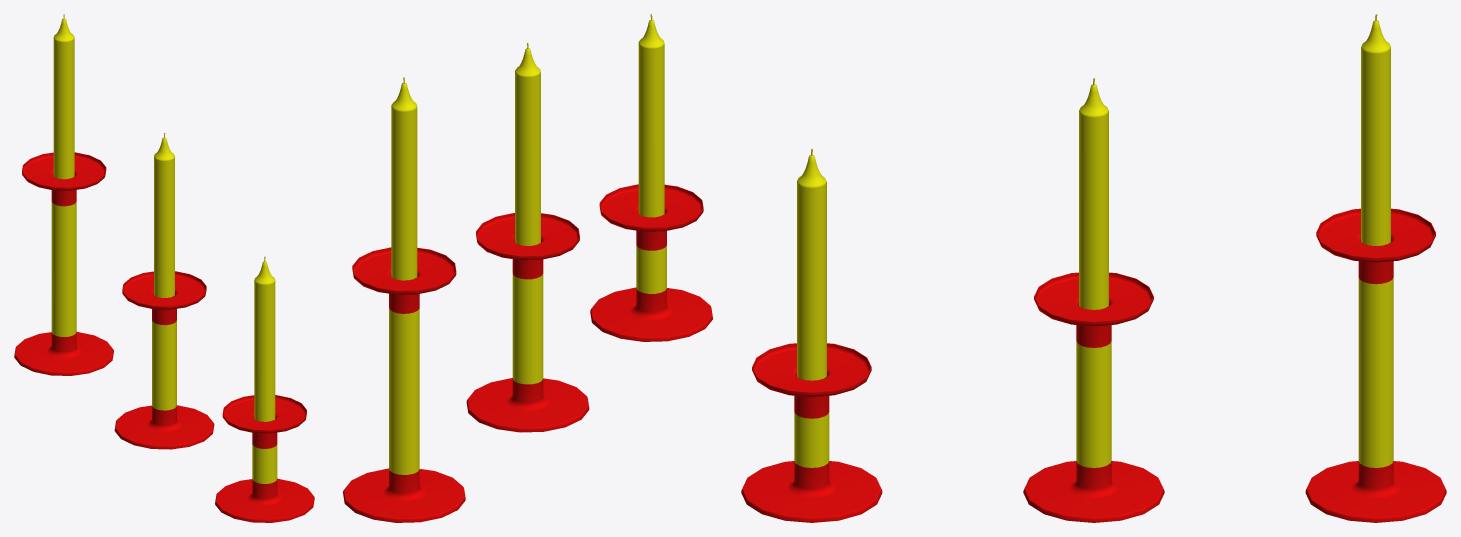
File: thorkea_candles_grp.fbx
The picture shows the model from 3 angles, left to right: view 1: azimuth 30°, elevation 25°; view 2: azimuth 150°, elevation 25°; view 3: azimuth 270°, elevation 25°; orthographic projection. The views are drawn at different scales.
Parts seen in each view (by area): view 1: thorkea_candle_glittrig_3, thorkea_candle_glittrig_2, thorkea_candle_glittrig_1; view 2: thorkea_candle_glittrig_3, thorkea_candle_glittrig_2, thorkea_candle_glittrig_1; view 3: thorkea_candle_glittrig_3, thorkea_candle_glittrig_2, thorkea_candle_glittrig_1.
Boxes of the visible parts, box(x1,y1,x2,y2) form: thorkea_candle_glittrig_3: box(14, 14, 113, 375); thorkea_candle_glittrig_2: box(114, 133, 214, 449); thorkea_candle_glittrig_1: box(215, 256, 314, 522); thorkea_candle_glittrig_3: box(343, 77, 465, 522); thorkea_candle_glittrig_2: box(466, 42, 589, 432); thorkea_candle_glittrig_1: box(590, 14, 712, 341); thorkea_candle_glittrig_3: box(1305, 14, 1446, 522); thorkea_candle_glittrig_2: box(1023, 78, 1164, 522); thorkea_candle_glittrig_1: box(741, 148, 882, 522).
Size of the model in its own units: 10 by 37.47 by 50.
